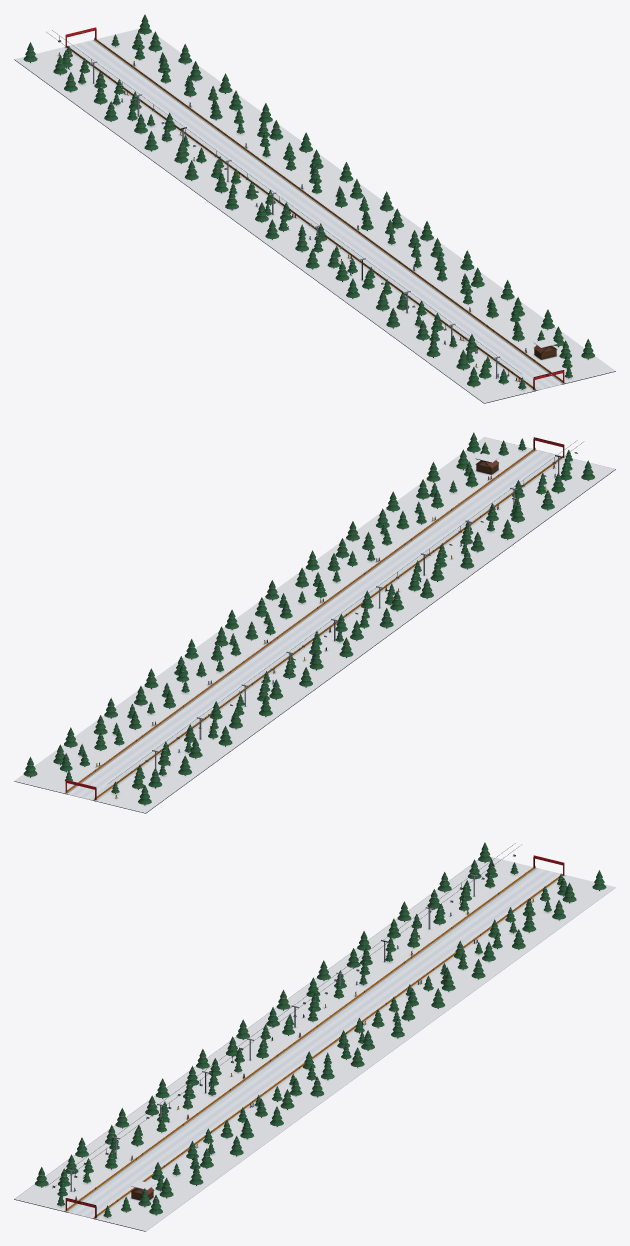
Rendered from pista_esqui.glb.
3 renders of one model, top to bottom at view 1: azimuth 30°, elevation 25°; view 2: azimuth 150°, elevation 25°; view 3: azimuth 330°, elevation 25°, orthographic.
Visible parts, largest first — view 1: pista_esqui; view 2: pista_esqui; view 3: pista_esqui.
Part boxes in pixels (left/top/right/bottom): pista_esqui: left=14, top=14, right=615, bottom=403; pista_esqui: left=14, top=432, right=615, bottom=813; pista_esqui: left=14, top=842, right=615, bottom=1231.
Size of the model in its own units: 68 by 10.61 by 420.
Materials: 1 (1 with a texture image).
